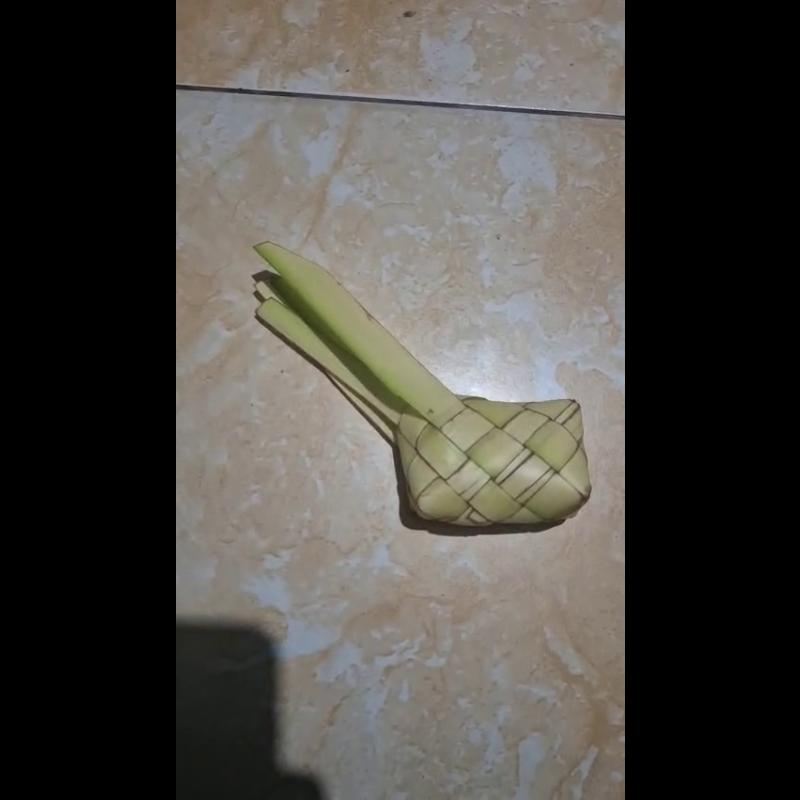Tipat Bantal: (251, 245, 592, 535)
